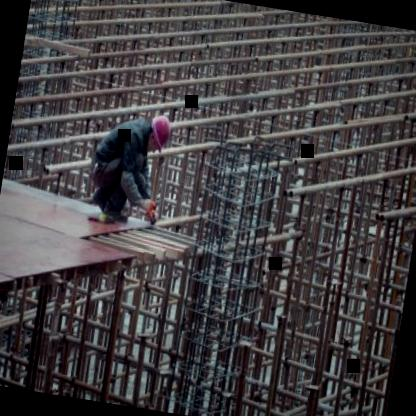helmet: (144, 111, 176, 158)
